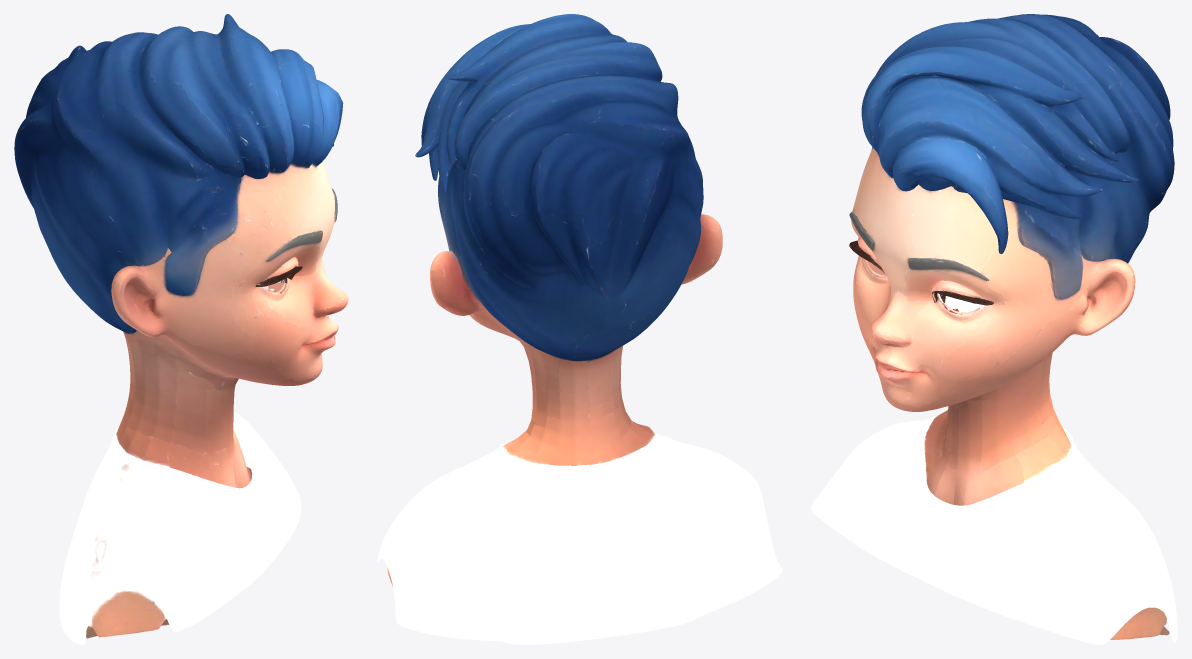
File: sample_00250.glb
3 views of the same model, side by side, from view 1: azimuth 30°, elevation 25°; view 2: azimuth 150°, elevation 25°; view 3: azimuth 270°, elevation 25° (orthographic). The views are drawn at different scales.
Visible parts, largest first — view 1: Neutral face; view 2: Neutral face; view 3: Neutral face.
Part boxes in pixels (x1,y1,x2,y2): Neutral face: (14, 14, 348, 644); Neutral face: (377, 14, 782, 644); Neutral face: (811, 14, 1177, 644).
Size of the model in its own units: 1.53 by 2.61 by 1.5.
Materials: 1 (1 with a texture image).
